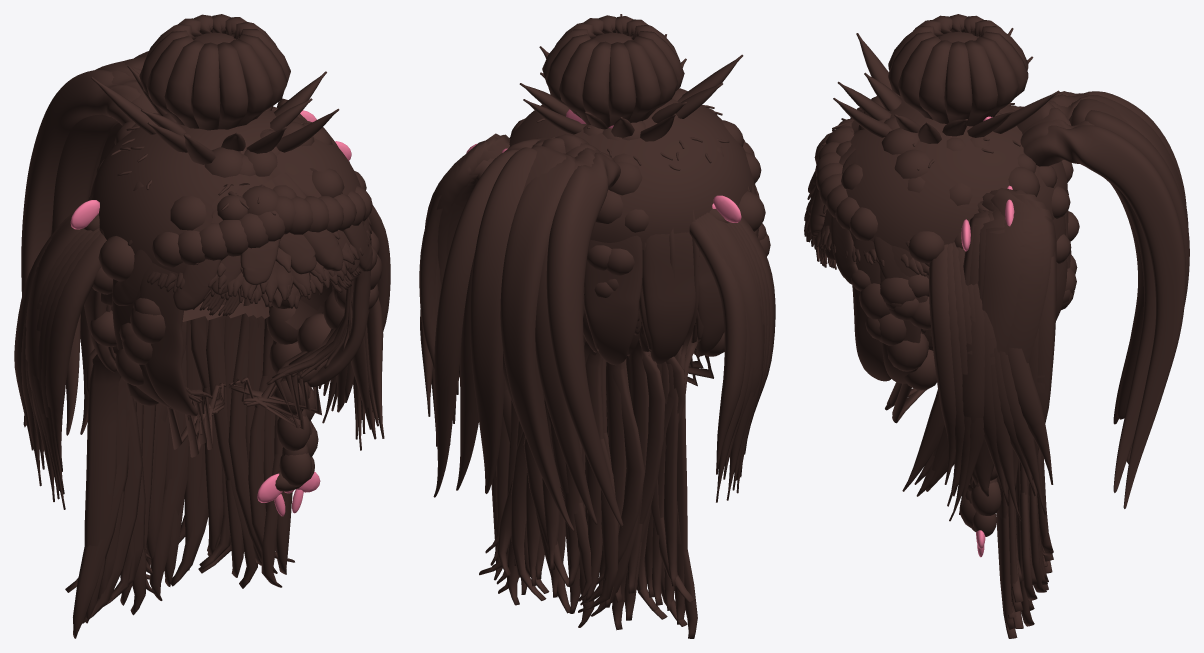
The model's file is hairs.glb.
3 renders of one model, left to right at view 1: azimuth 30°, elevation 25°; view 2: azimuth 150°, elevation 25°; view 3: azimuth 270°, elevation 25°, orthographic. The views are drawn at different scales.
Parts seen in each view (by area): view 1: Hair_01, Hair_10, Hair_04, Hair_08, Hair_02, Hair_05, Hair_06, Hair_07, Hair_09, Hair_03; view 2: Hair_01, Hair_04, Hair_10, Hair_02, Hair_05, Hair_09, Hair_08, Hair_07, Hair_03; view 3: Hair_01, Hair_02, Hair_09, Hair_08, Hair_05, Hair_10, Hair_07, Hair_04, Hair_06.
Boxes of the visible parts, <box> form: Hair_01: <box>21,51,372,435</box>; Hair_10: <box>65,121,363,638</box>; Hair_04: <box>84,180,371,623</box>; Hair_08: <box>89,106,382,406</box>; Hair_02: <box>14,141,390,509</box>; Hair_05: <box>121,14,371,403</box>; Hair_06: <box>179,211,371,516</box>; Hair_07: <box>91,65,339,276</box>; Hair_09: <box>120,98,384,439</box>; Hair_03: <box>106,122,370,361</box>; Hair_01: <box>433,98,759,531</box>; Hair_04: <box>490,105,758,624</box>; Hair_10: <box>479,118,759,638</box>; Hair_02: <box>420,152,775,502</box>; Hair_05: <box>542,15,756,321</box>; Hair_09: <box>419,133,758,414</box>; Hair_08: <box>510,88,770,356</box>; Hair_07: <box>519,14,750,191</box>; Hair_03: <box>583,105,756,355</box>; Hair_01: <box>808,91,1189,508</box>; Hair_02: <box>804,219,1053,521</box>; Hair_09: <box>804,103,1056,496</box>; Hair_08: <box>814,96,1079,390</box>; Hair_05: <box>804,14,1028,274</box>; Hair_10: <box>805,140,1053,638</box>; Hair_07: <box>807,28,1059,247</box>; Hair_04: <box>805,118,1053,629</box>; Hair_06: <box>804,142,1024,557</box>.
Size of the model in its own units: 0.5808 by 0.9734 by 0.6006.
